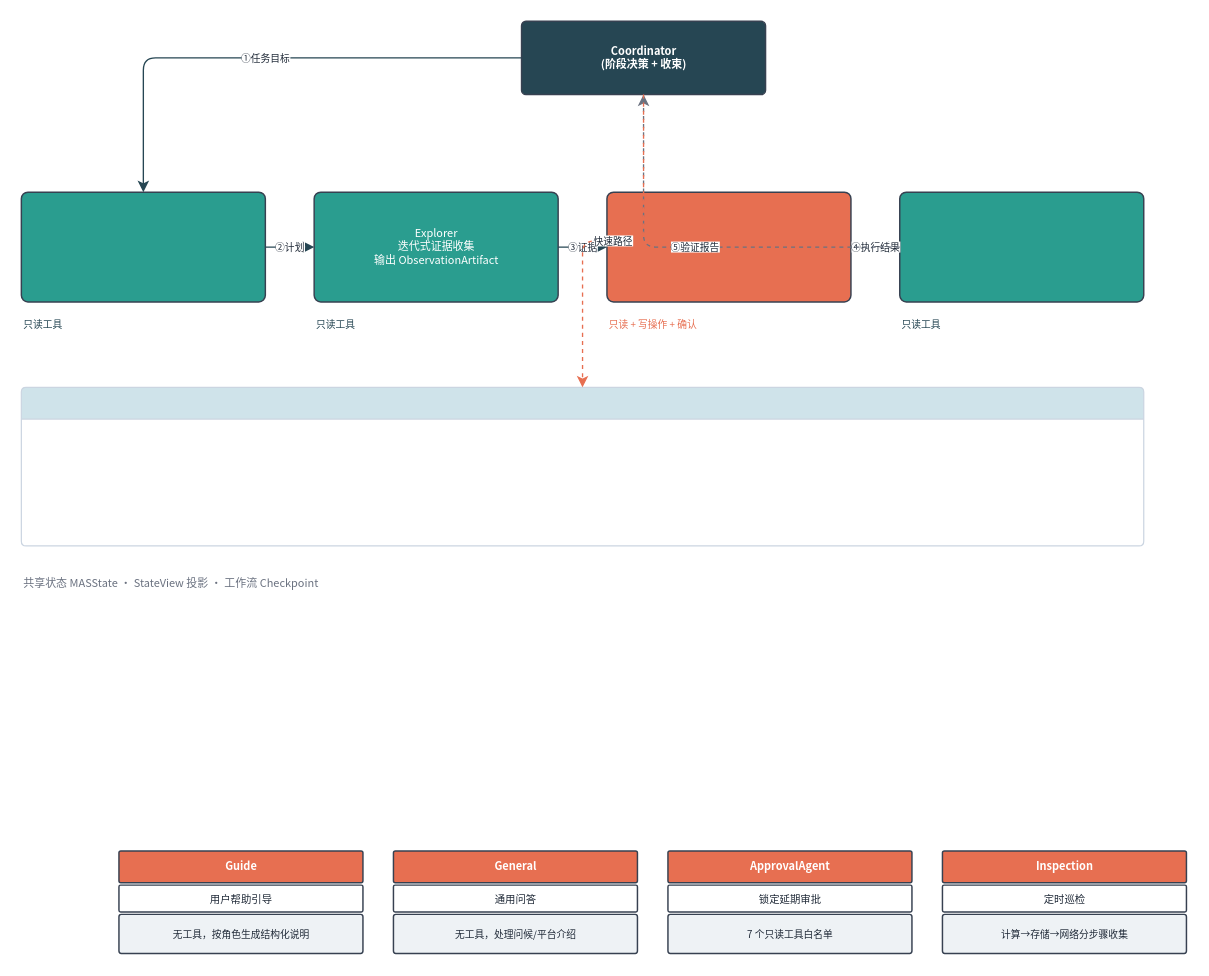
Some shapes in this 1209 by 976 pixel diagram are drawn without their labels. The shapes that lost their labels are listed below. From the top down, each one's centre as x and y in pixels, then its label:
[142,246]: Planner 规划候选工具 输出 PlanArtifact
[728,246]: Executor 操作计划与执行 生成确认请求
[1021,246]: Verifier 挑战式验证 输出 pass/risk/不足
[582,466]: 任务型智能体（非诊断路径）
